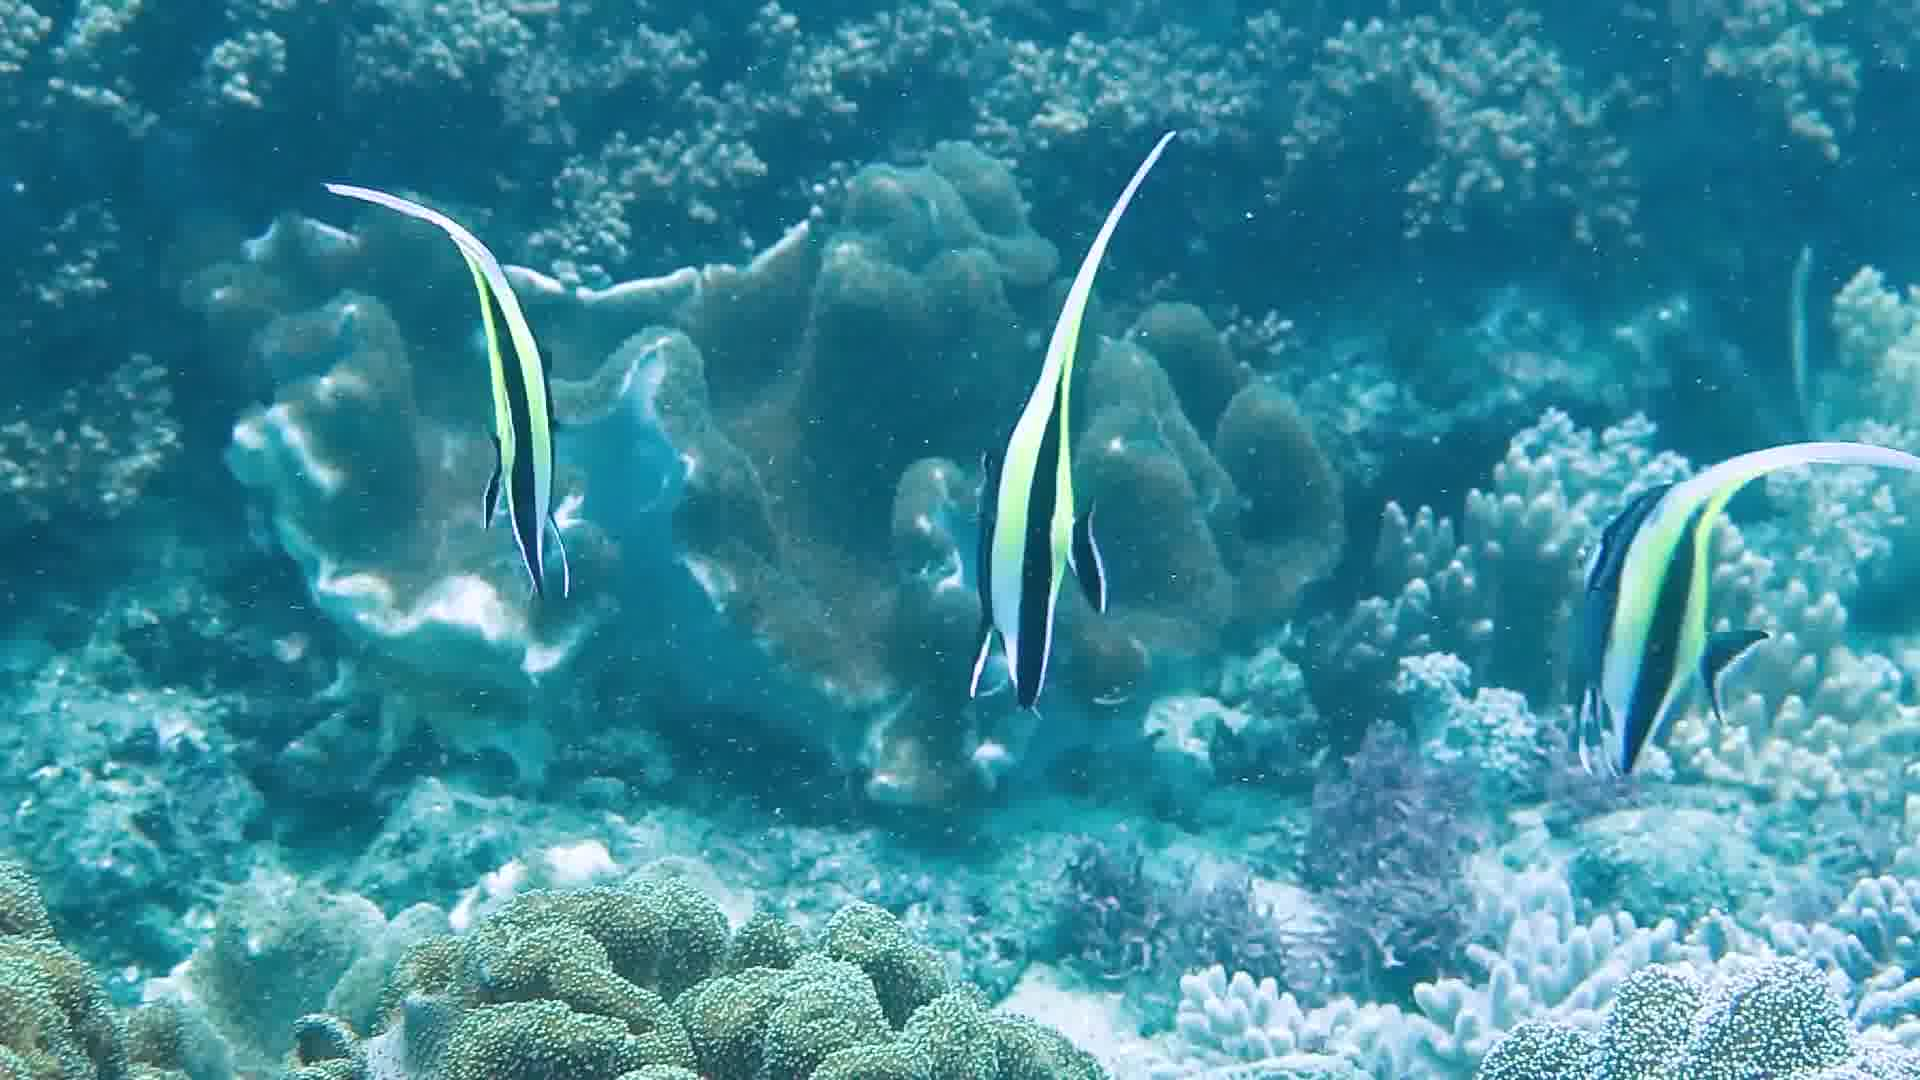Zanclus cornutus: (394, 175, 632, 624), (928, 202, 1127, 708), (1552, 386, 1771, 833)
